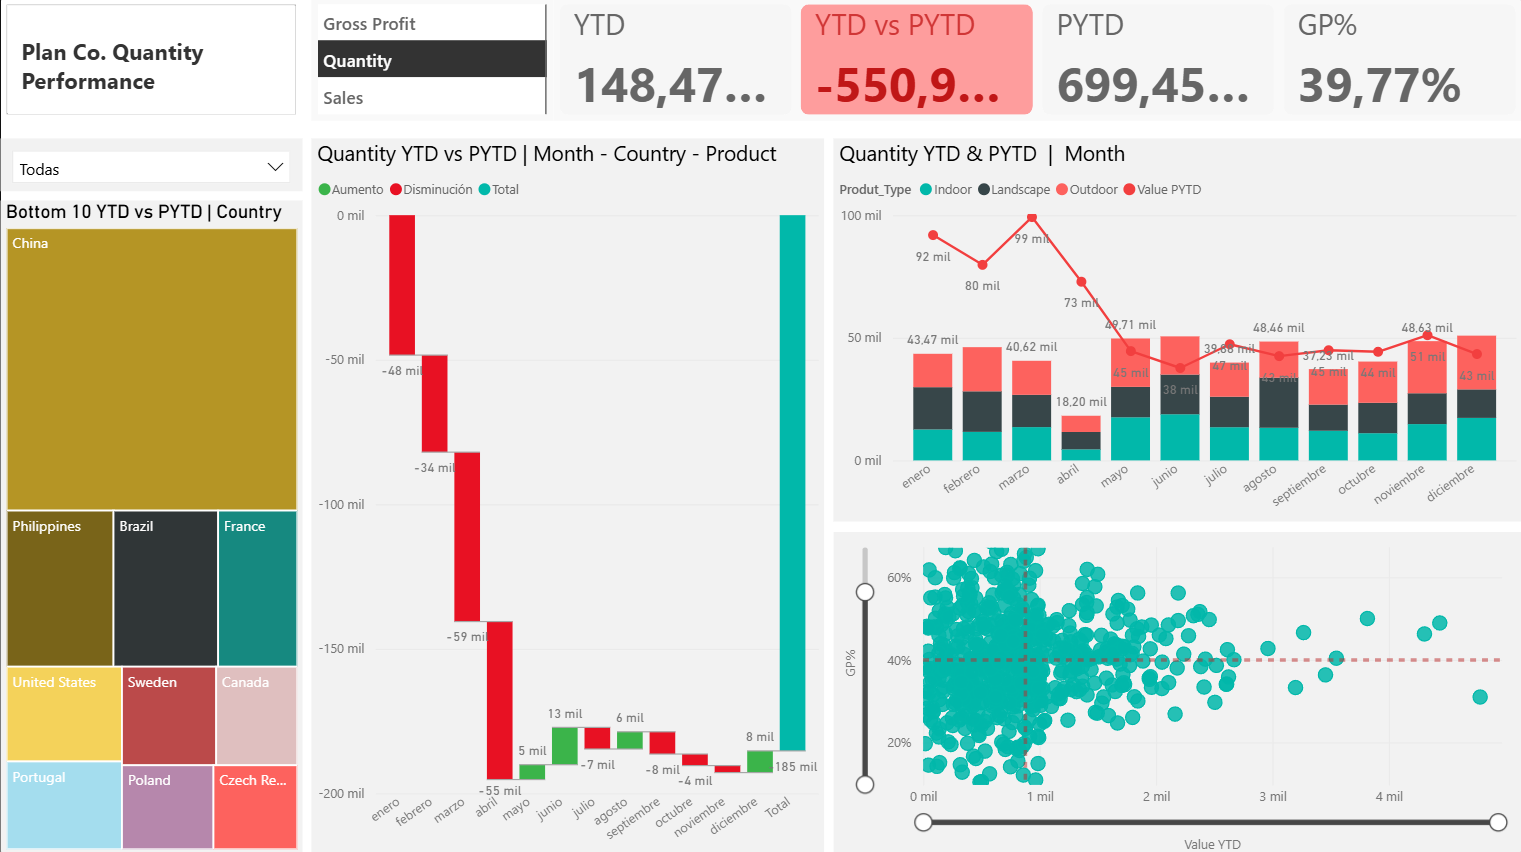

This screenshot's page, from the dashboard's own definition file:
{"tool":"powerbi","page":{"name":"Página 1","canvas":[1280,720],"ordinal":0},"visuals":[{"type":"advancedSlicerVisual","fields":{"Values":["Slc_Values.Values"]},"box":[262.2,0,203.3,103.3],"z":0},{"type":"slicer","title":"YTD","fields":{"Values":["Dim_Date.Date.Variación.Jerarquía de fechas.Año"]},"box":[0,117.8,254.4,44.4],"z":1000},{"type":"treemap","title":"Bottom 10 YTD vs PYTD | Country","fields":{"Values":["_Measures.YTD vs PYTD"],"Group":["Dim_Account.country"]},"box":[0,170,254.4,550],"z":2000},{"type":"waterfallChart","fields":{"Category":["Dim_Date.Date.Variación.Jerarquía de fechas.Mes","Dim_Account.country","Dim_Product.Produt_Type","Dim_Product.Product_Name"],"Y":["_Measures.YTD vs PYTD"]},"box":[262.2,117.8,431.1,602.2],"z":3000},{"type":"cardVisual","fields":{"Data":["_Measures.S_YTD","_Measures.YTD vs PYTD","_Measures.S_PYTD","_Measures.GP%"]},"box":[465.6,0,814.4,103.3],"z":4000},{"type":"lineStackedColumnComboChart","fields":{"Y":["_Measures.S_YTD"],"Y2":["_Measures.S_PYTD"],"Category":["Dim_Date.Date.Variación.Jerarquía de fechas.Trimestre","Dim_Date.Date.Variación.Jerarquía de fechas.Mes"],"Series":["Dim_Product.Produt_Type"]},"box":[701.1,117.8,578.9,322.2],"z":5000},{"type":"scatterChart","fields":{"Y":["_Measures.GP%"],"X":["_Measures.S_YTD"],"Category":["Dim_Account.Account"]},"box":[700.9,448.9,579.1,271],"z":6000},{"type":"cardVisual","fields":{"Data":["_Measures._Report title"]},"box":[0,0,254.4,103.3],"z":7000}]}

Visuals, with their boxes in screenshot pixels (x1, y1, x2, y2), scaled from the page's 1280x720 canvas onto the 1521x852 screenshot:
advancedSlicerVisual - Slc_Values.Values: 312 0 553 122
"YTD" slicer: 0 139 302 192
"Bottom 10 YTD vs PYTD | Country" treemap: 0 201 302 851
waterfallChart - Dim_Date.Date.Variación.Jerarquía de fechas.Mes x Dim_Account.country: 312 139 824 851
cardVisual - _Measures.S_YTD x _Measures.YTD vs PYTD: 553 0 1520 122
lineStackedColumnComboChart - _Measures.S_YTD x _Measures.S_PYTD: 833 139 1520 521
scatterChart - _Measures.GP% x _Measures.S_YTD: 833 531 1520 851
cardVisual - _Measures._Report title: 0 0 302 122
